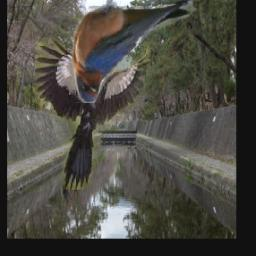Swallow: (72, 0, 203, 103)
Woodpecker: (34, 37, 149, 190)
